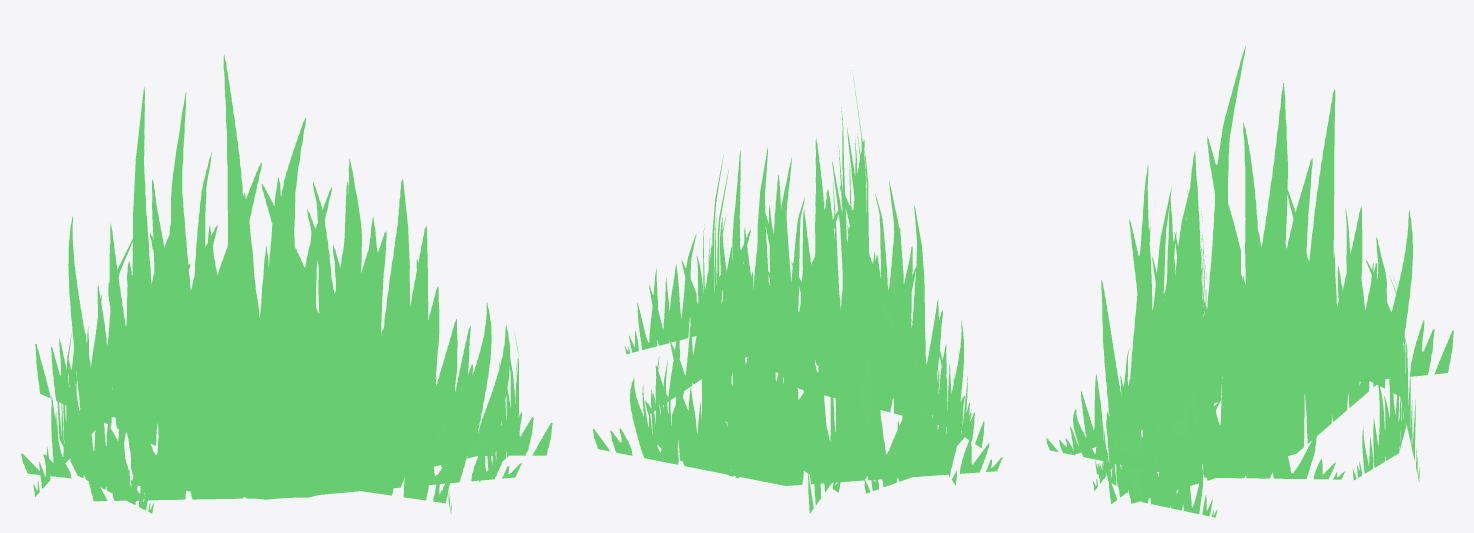
The model's file is low_poly_grass_mesh.fbx.
3 renders of one model, left to right at view 1: azimuth 30°, elevation 25°; view 2: azimuth 150°, elevation 25°; view 3: azimuth 270°, elevation 25°, orthographic. The views are drawn at different scales.
Parts seen in each view (by area): view 1: Plane.007; view 2: Plane.007; view 3: Plane.007.
Part boxes in pixels (left/top/right/bottom): Plane.007: left=21, top=54, right=552, bottom=513; Plane.007: left=592, top=70, right=1002, bottom=513; Plane.007: left=1046, top=46, right=1453, bottom=517.
Bounding box in the file's own units: 281 × 259 × 250.
